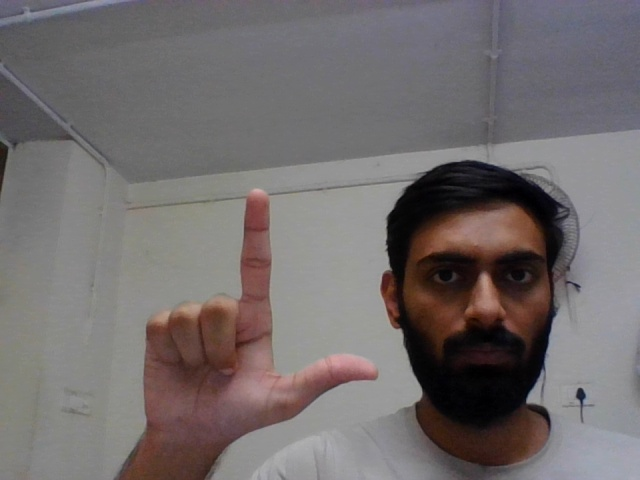L: (129, 185, 382, 455)
